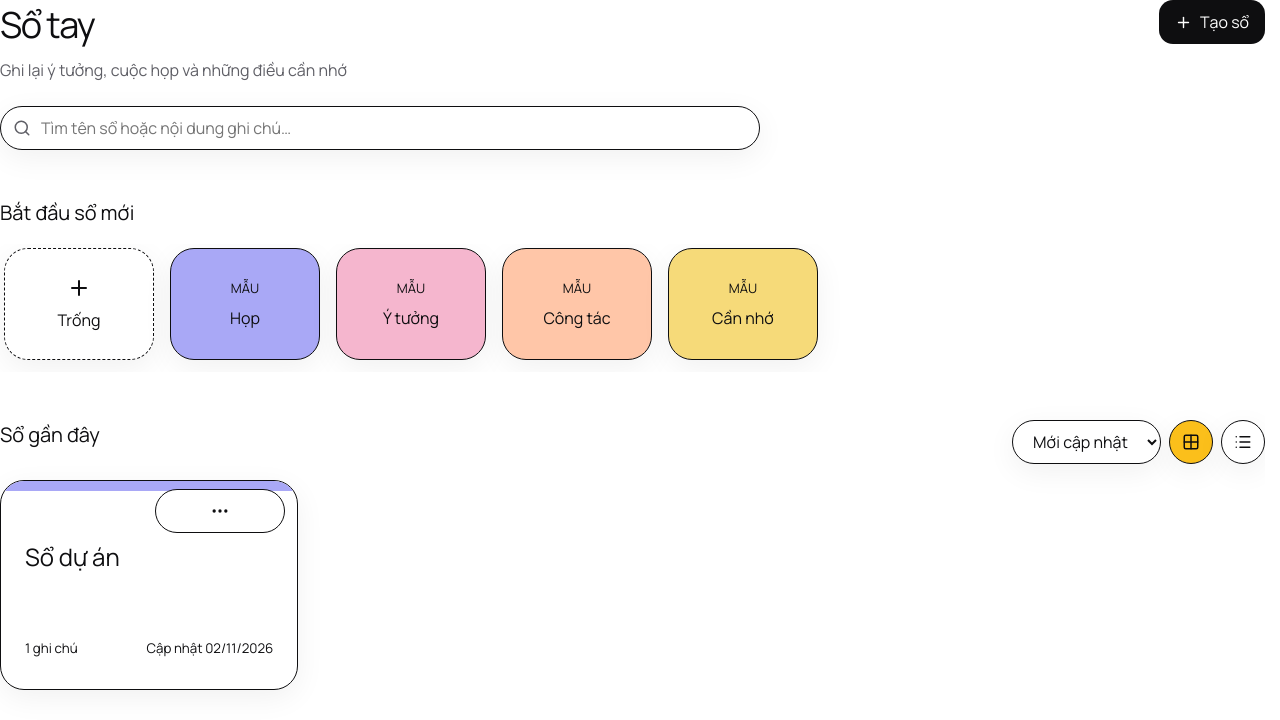
Scenario: trang sổ tay và cài đặt › lọc sổ, đổi dạng xem và mở tạo sổ
Expected: the heading "Sổ tay" is shown, [0,0,94,49]
Type "Biên bản" into the field named "Tìm kiếm sổ tay" at (380, 128), box [0,106,760,150]
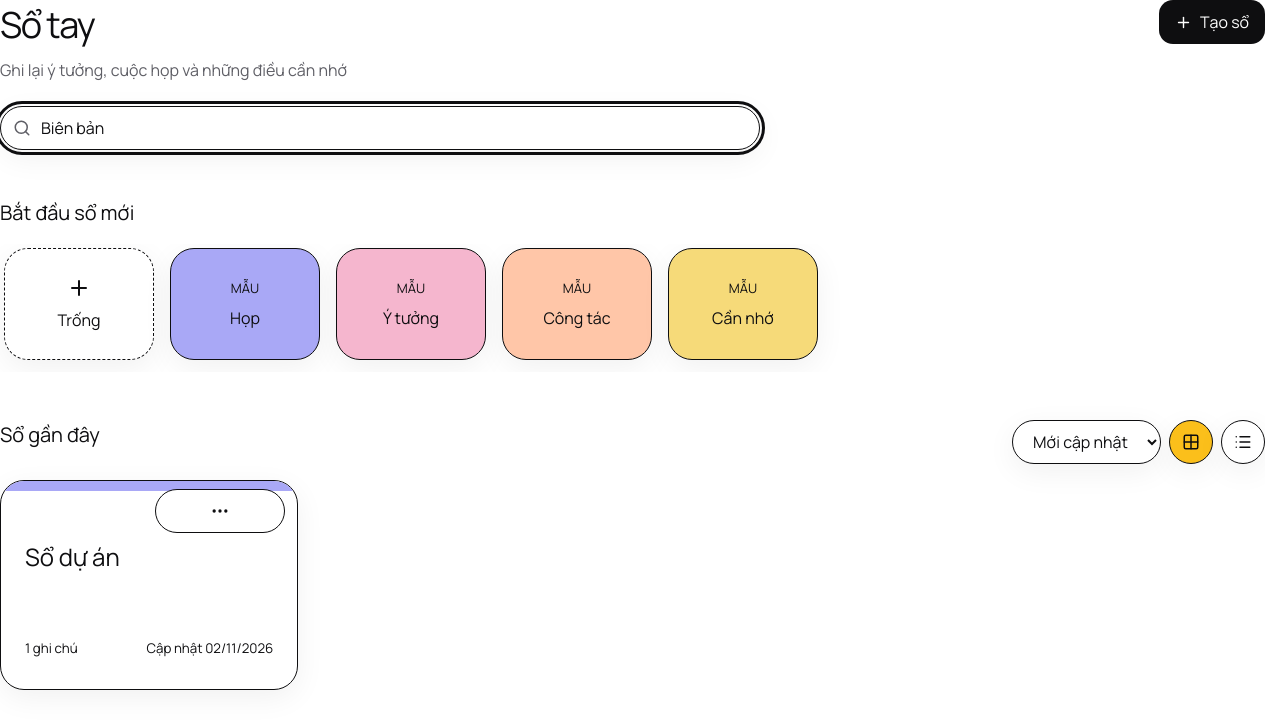
Click the button named "Dạng danh sách" at (1243, 442), box [1221,420,1265,464]
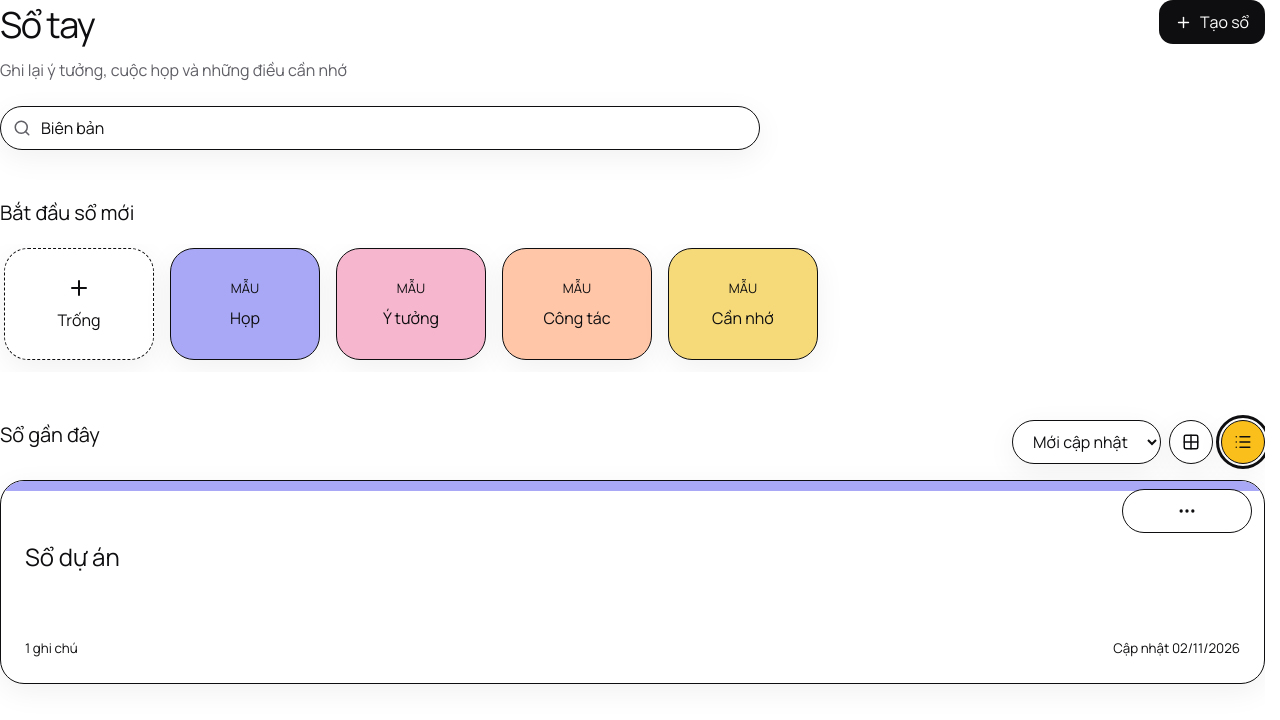
Click the button "Tạo sổ" at (1212, 22), box [1159,0,1265,44]
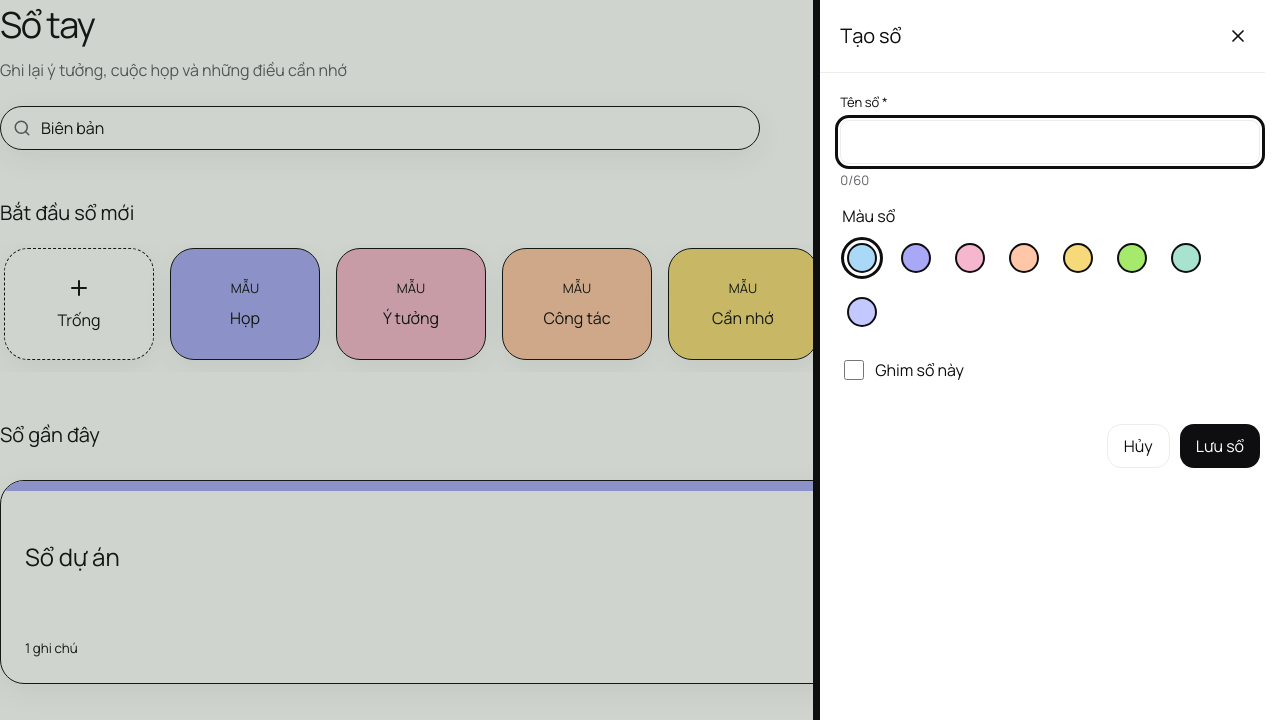
Now the dialog "Tạo sổ" is shown, box [819,0,1279,719]
